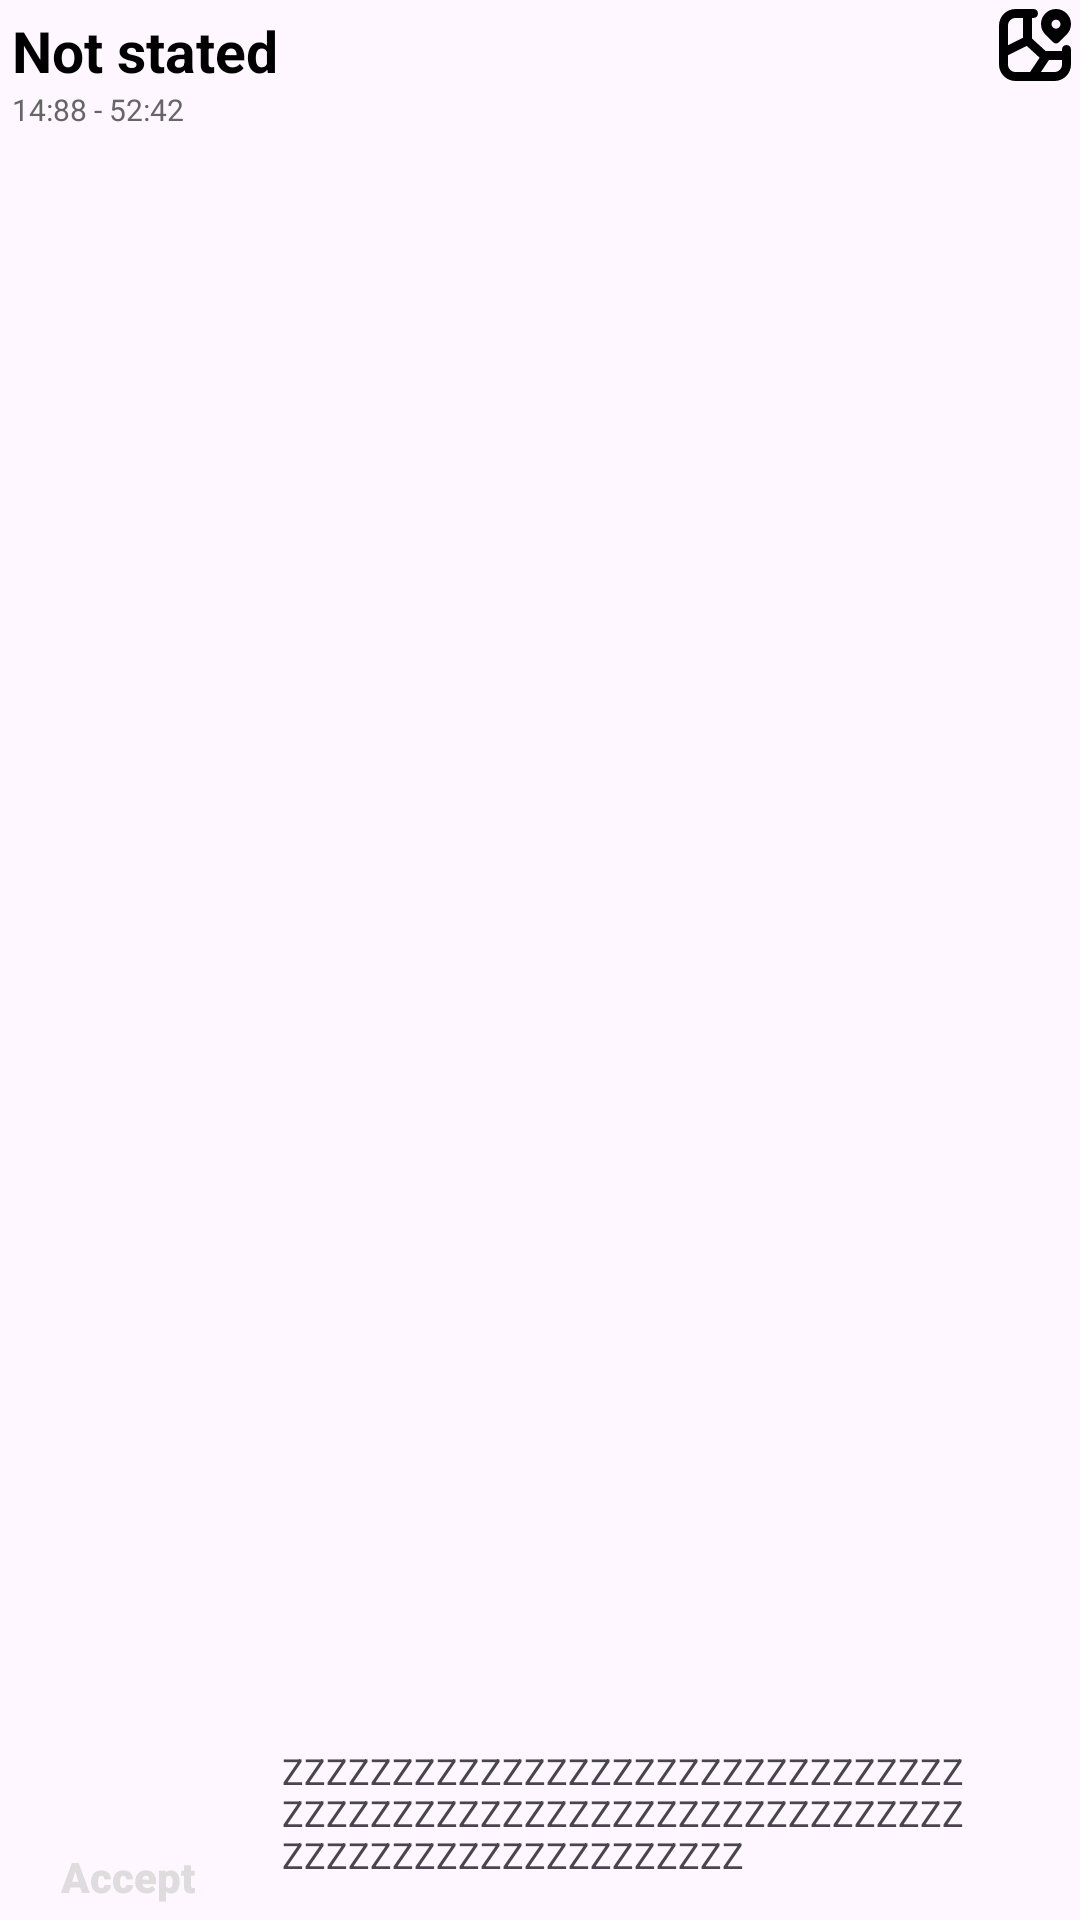

Screen size 1080px x 1920px. Icon name, then its box in pixels as bbox=(x1, y1, x2, y2):
region: bbox=(999, 9, 1071, 81)
